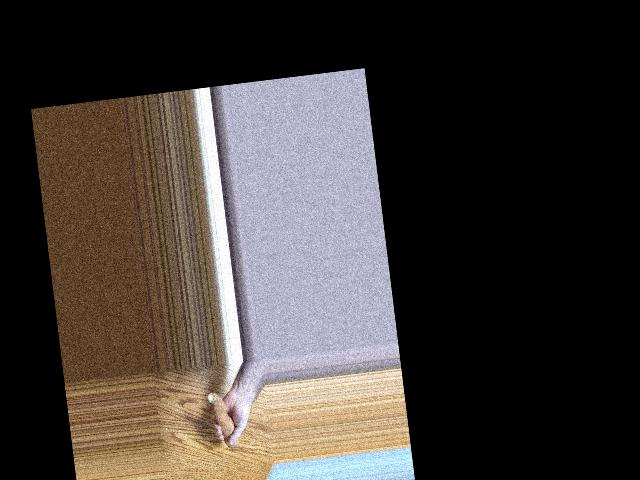sweet_potato: (207, 386, 238, 452)
